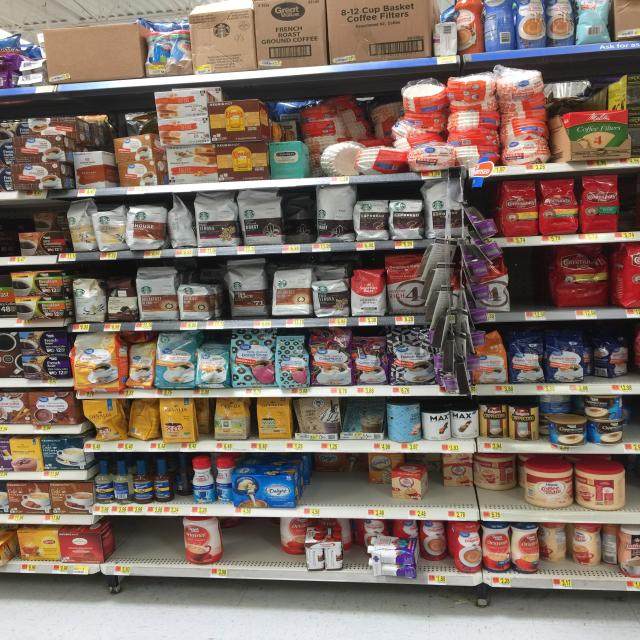empty: (104, 521, 189, 560), (509, 242, 553, 314), (232, 516, 279, 566)
